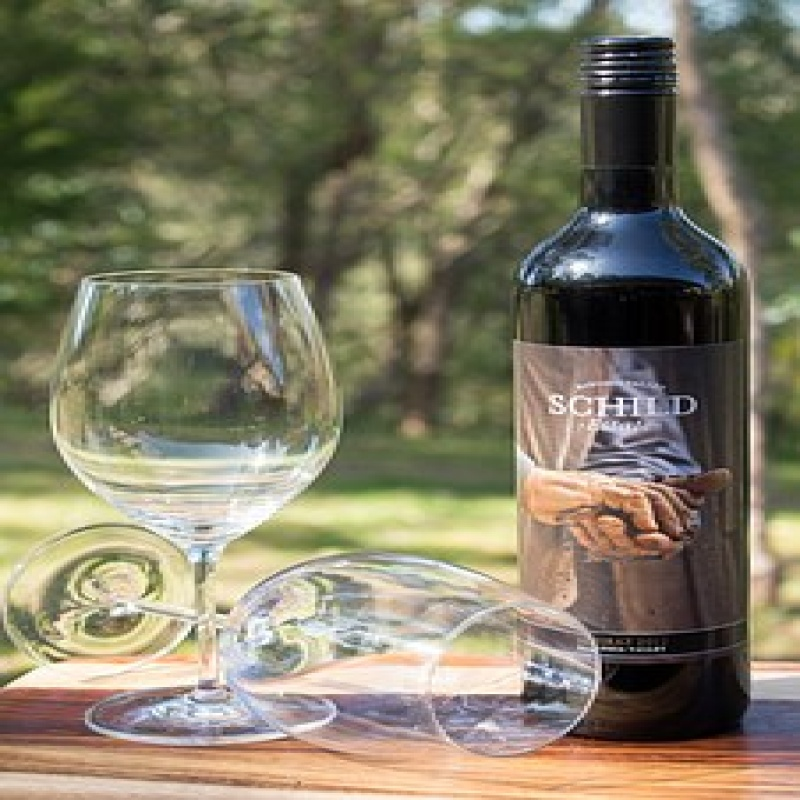wine: (500, 39, 765, 737)
